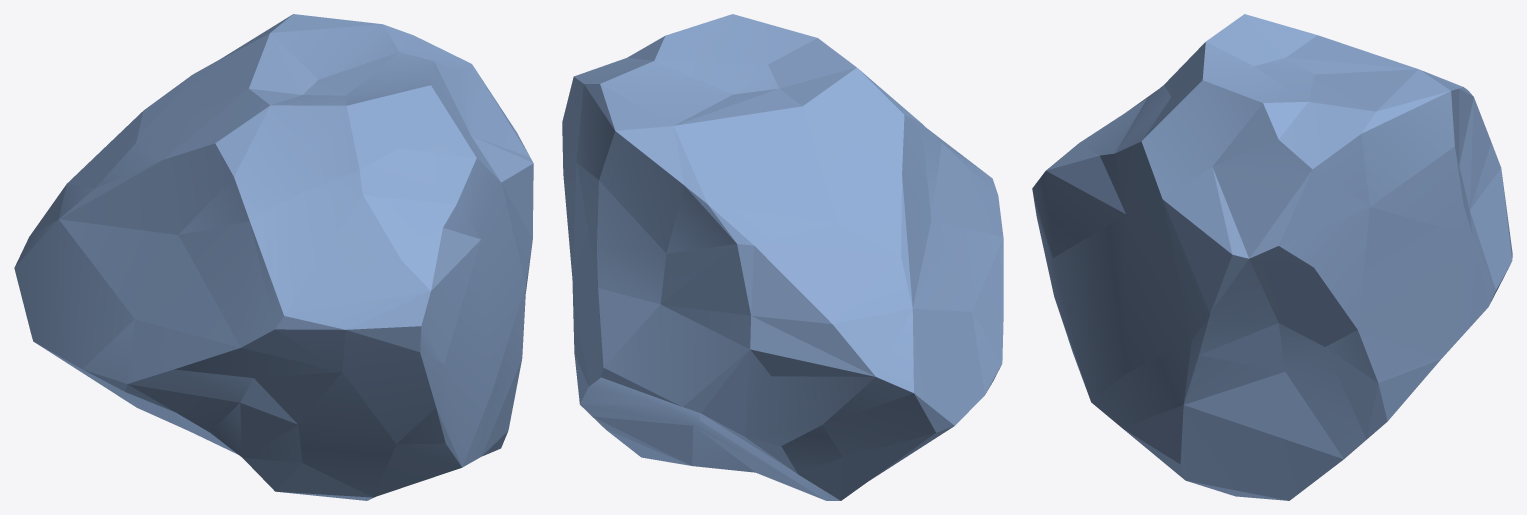
The model's file is songvrRockSmallD.FBX.
3 views of the same model, side by side, from view 1: azimuth 30°, elevation 25°; view 2: azimuth 150°, elevation 25°; view 3: azimuth 270°, elevation 25° (orthographic). The views are drawn at different scales.
Visible parts, largest first — view 1: songvrRockSmallD; view 2: songvrRockSmallD; view 3: songvrRockSmallD.
Part boxes in pixels (left/top/right/bottom): songvrRockSmallD: left=14, top=14, right=533, bottom=500; songvrRockSmallD: left=562, top=14, right=1003, bottom=500; songvrRockSmallD: left=1032, top=14, right=1512, bottom=500.
Bounding box in the file's own units: 1.61 × 1.45 × 1.57.
